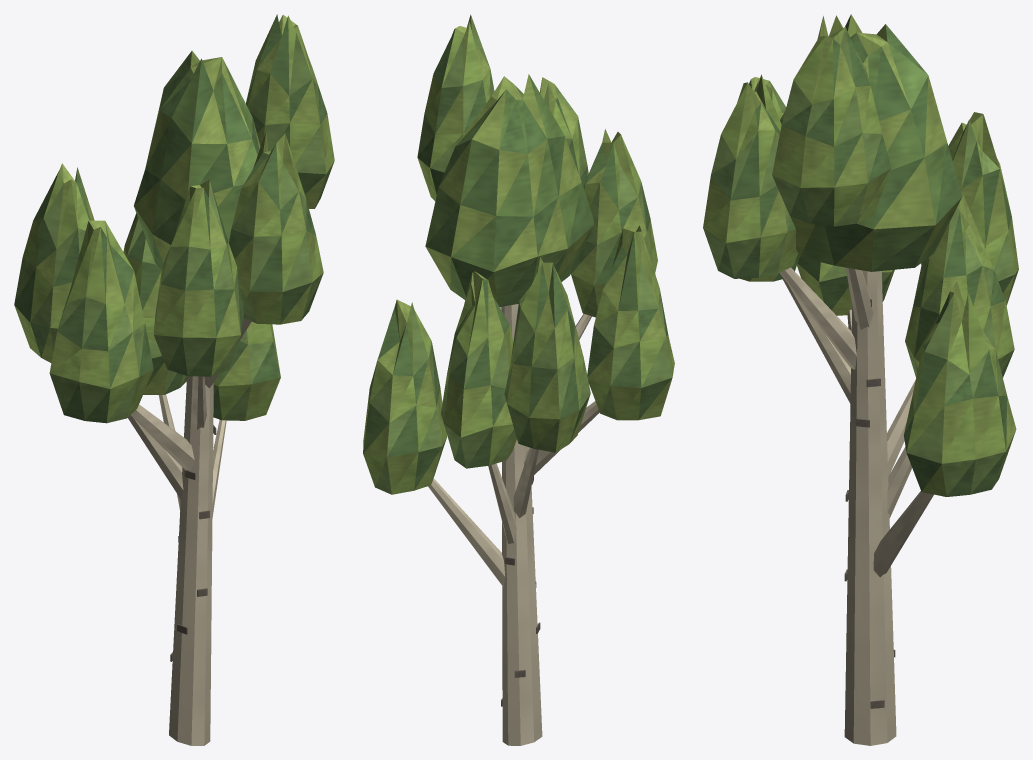
The model's file is tree_birch_02.fbx.
3 renders of one model, left to right at view 1: azimuth 30°, elevation 25°; view 2: azimuth 150°, elevation 25°; view 3: azimuth 270°, elevation 25°, orthographic. The views are drawn at different scales.
Parts seen in each view (by area): view 1: tree_birch_02; view 2: tree_birch_02; view 3: tree_birch_02.
Part boxes in pixels (x1,y1,x2,y2): tree_birch_02: (14,14,334,745); tree_birch_02: (363,14,674,745); tree_birch_02: (703,14,1018,745).
Size of the model in its own units: 428 by 1090 by 410.
Materials: 1 (1 with a texture image).
